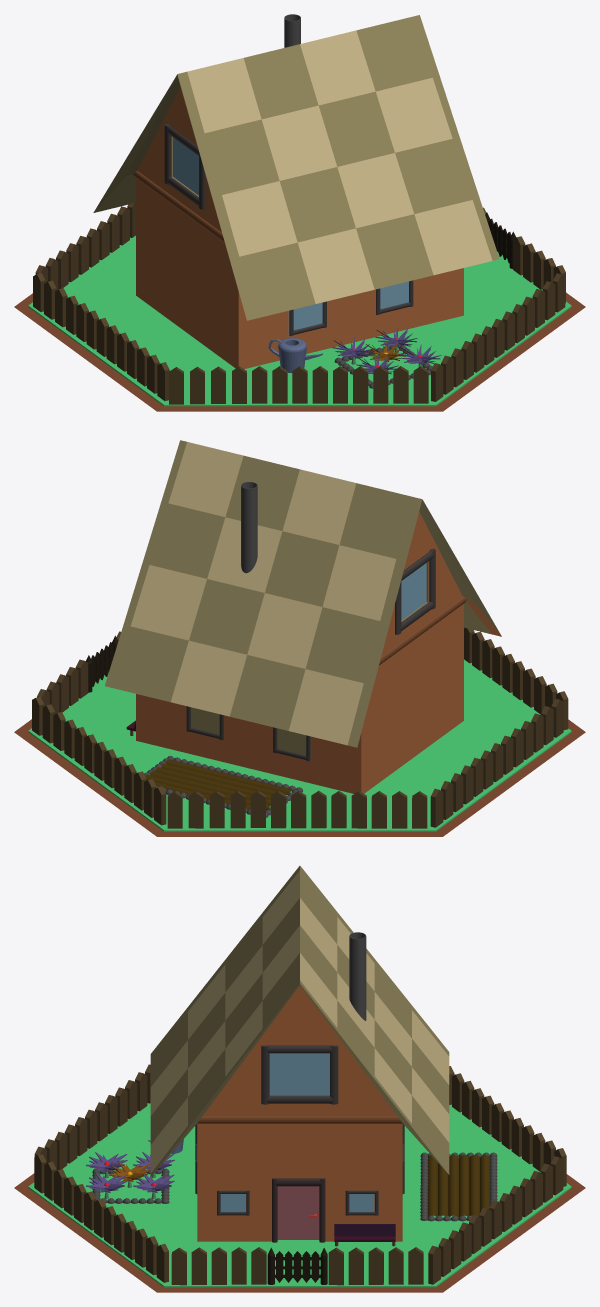
3 views of the same model, one above another, from view 1: azimuth 30°, elevation 25°; view 2: azimuth 150°, elevation 25°; view 3: azimuth 270°, elevation 25° (orthographic).
Parts seen in each view (by area): view 1: Cube, Cylinder.006, Cube.005, Cube.003, Cube.002, Cube.004, Cube.008, Cylinder.002, Cylinder.019, Cylinder, Cube.009, Cylinder.001; view 2: Cube, Cylinder.006, Cube.004, Cube.006, Cube.003, Cube.005, Cylinder.020, Cube.007, Cylinder.001, Cylinder.002, Cylinder, Cube.009; view 3: Cube, Cylinder.006, Cube.006, Cube.002, Cube.004, Cube.005, Cylinder.020, Cube.007, Cube.008, Cylinder.003, Cylinder, Cylinder.001 (+3 smaller).
Boxes of the visible parts, left/top/right/bottom form: Cube: left=93, top=15, right=499, bottom=368; Cylinder.006: left=14, top=235, right=585, bottom=411; Cube.005: left=169, top=366, right=428, bottom=404; Cube.003: left=33, top=273, right=169, bottom=400; Cube.002: left=431, top=273, right=565, bottom=401; Cube.004: left=35, top=203, right=135, bottom=289; Cube.008: left=513, top=236, right=565, bottom=303; Cylinder.002: left=164, top=123, right=204, bottom=209; Cylinder.019: left=268, top=338, right=322, bottom=372; Cylinder: left=133, top=171, right=224, bottom=242; Cube.009: left=489, top=218, right=511, bottom=263; Cylinder.001: left=284, top=14, right=300, bottom=47; Cube: left=105, top=440, right=501, bottom=793; Cylinder.006: left=14, top=659, right=585, bottom=836; Cube.004: left=167, top=790, right=427, bottom=828; Cube.006: left=32, top=696, right=166, bottom=825; Cube.003: left=430, top=698, right=563, bottom=827; Cube.005: left=464, top=627, right=568, bottom=729; Cylinder.020: left=145, top=759, right=293, bottom=809; Cube.007: left=37, top=659, right=88, bottom=713; Cylinder.001: left=241, top=482, right=257, bottom=573; Cylinder.002: left=395, top=548, right=435, bottom=634; Cylinder: left=379, top=596, right=466, bottom=665; Cube.009: left=91, top=642, right=113, bottom=686; Cube: left=150, top=866, right=449, bottom=1241; Cylinder.006: left=14, top=1103, right=585, bottom=1292; Cube.006: left=428, top=1156, right=563, bottom=1284; Cube.002: left=34, top=1154, right=168, bottom=1282; Cube.004: left=449, top=1066, right=566, bottom=1186; Cube.005: left=34, top=1064, right=150, bottom=1170; Cylinder.020: left=427, top=1155, right=489, bottom=1218; Cube.007: left=328, top=1247, right=423, bottom=1285; Cube.008: left=171, top=1247, right=266, bottom=1285; Cylinder.003: left=261, top=1045, right=338, bottom=1104; Cylinder: left=197, top=1115, right=402, bottom=1123; Cylinder.001: left=349, top=932, right=366, bottom=1020.
Size of the model in its own units: 1.73 by 1.02 by 2.
